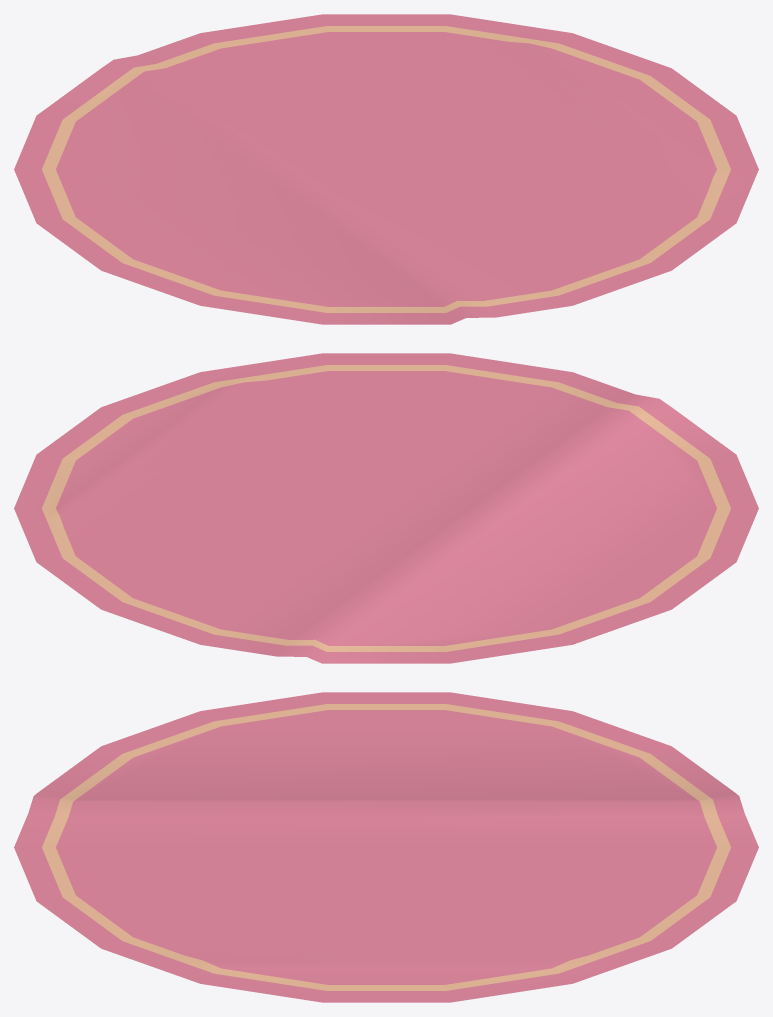
File: rug-round.glb
3 renders of one model, top to bottom at view 1: azimuth 30°, elevation 25°; view 2: azimuth 150°, elevation 25°; view 3: azimuth 270°, elevation 25°, orthographic.
Visible parts, largest first — view 1: Carpet_Round; view 2: Carpet_Round; view 3: Carpet_Round.
Boxes of the visible parts, x1=… form: Carpet_Round: x1=14, y1=14, x2=758, y2=324; Carpet_Round: x1=14, y1=353, x2=758, y2=663; Carpet_Round: x1=14, y1=692, x2=758, y2=1002.
Bounding box in the file's own units: 2.49 × 0.0158 × 2.53.
